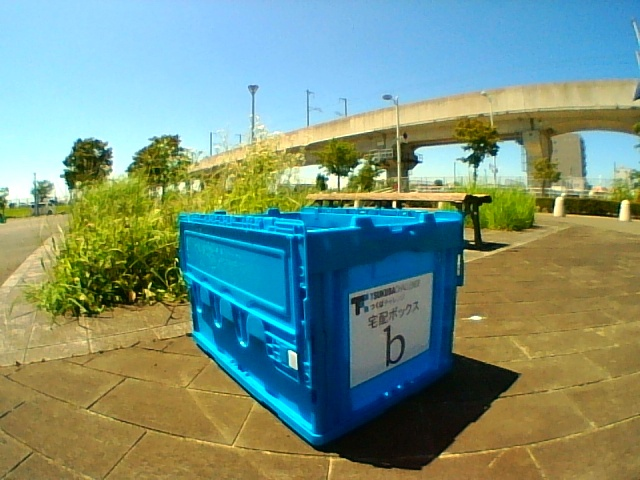blue_box: (186, 212, 451, 387)
tag_b: (357, 299, 410, 366)
